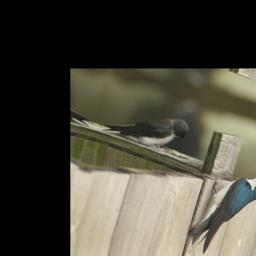Swallow: (187, 159, 256, 256)
